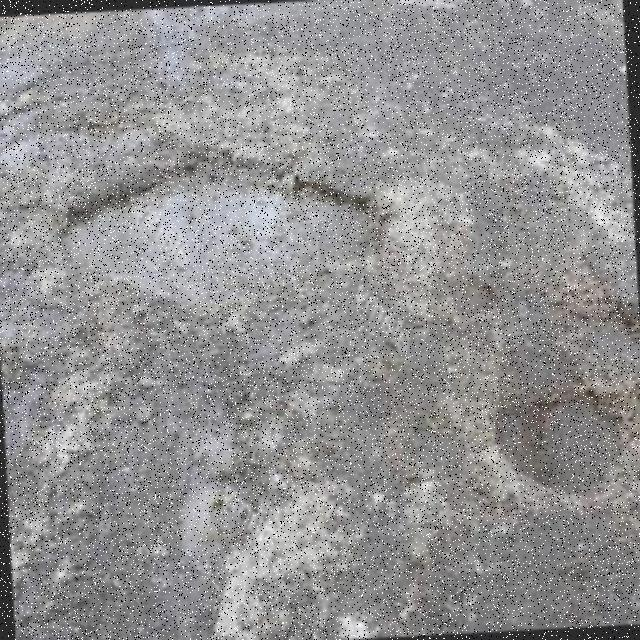Pothole: (68, 148, 386, 305), (494, 392, 628, 498)
